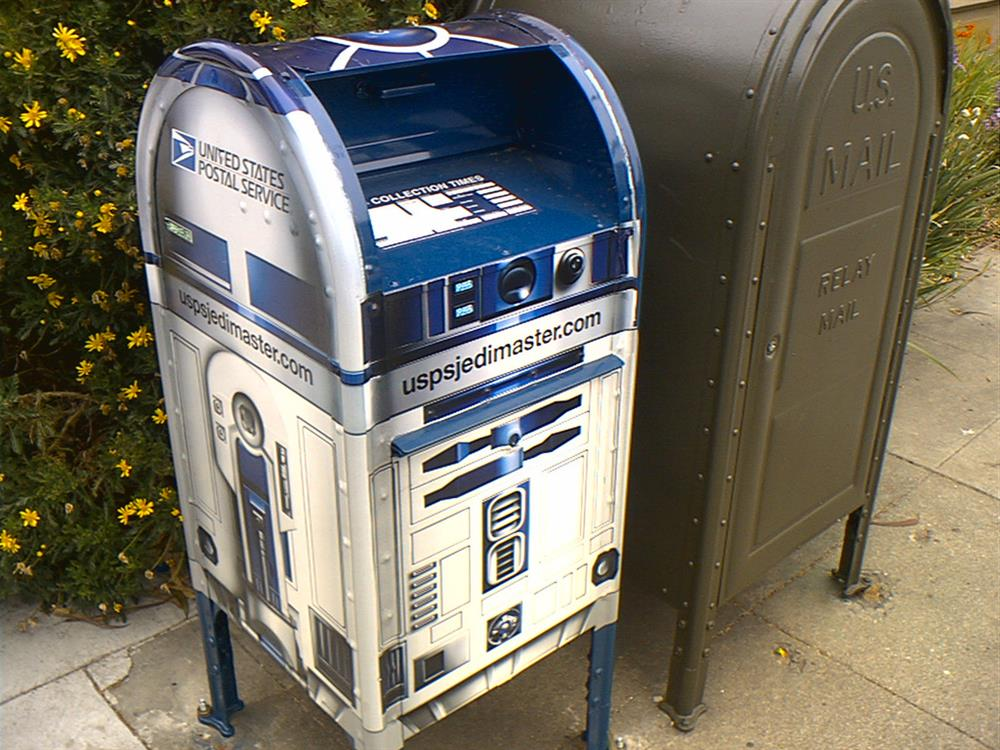R2D2_mailbox: (128, 10, 629, 723)
